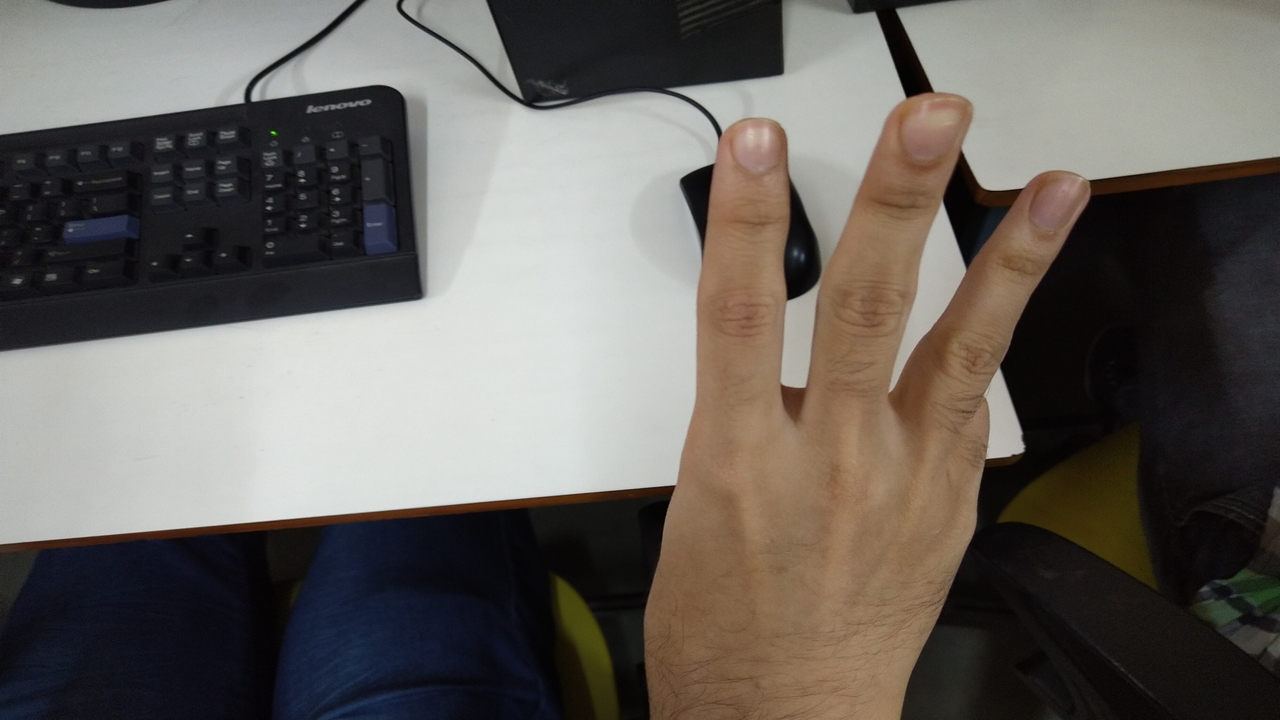fingertip: (883, 87, 977, 181), (714, 110, 800, 180), (1016, 168, 1110, 232)
